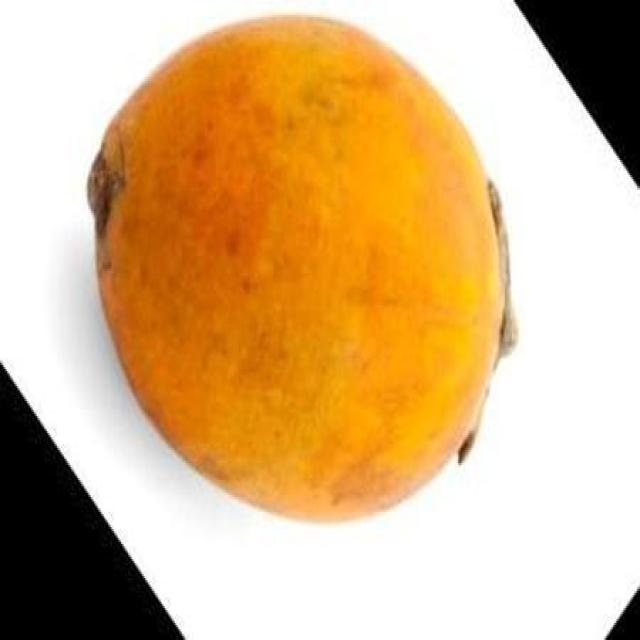good: (84, 15, 511, 529)
